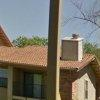Chimney: (63, 31, 91, 67)
